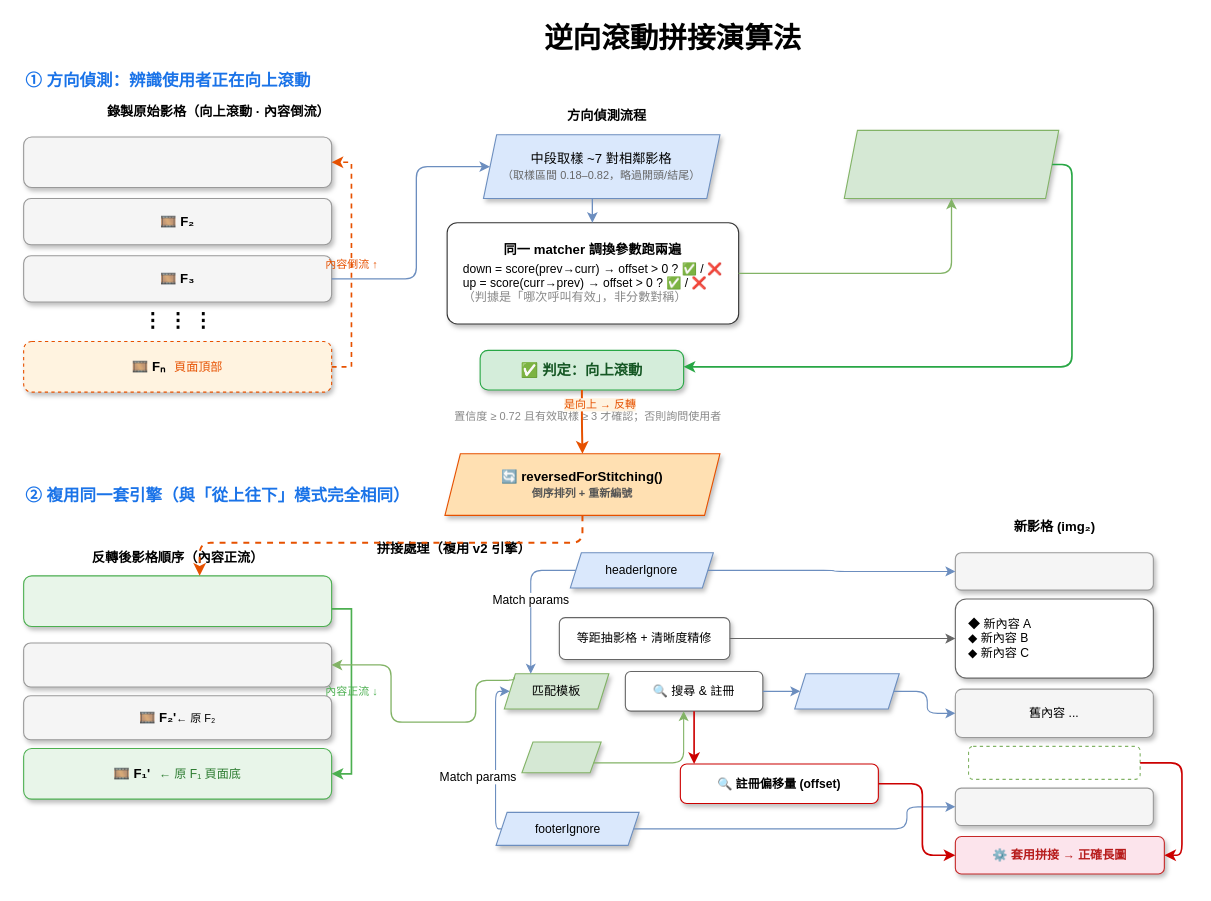
Image size: 1211x901. Some labels were removed from this diagram. The centre of each missing label's shape, as x and y in pixels:
"⊞ Tab Bar" goes at (x=1055, y=808).
"在這裡！ ✅" goes at (x=1053, y=762).
"投票判定 upVotes ≥ downVotes + 2 且 upScore ≥ downScore × 1.25" goes at (x=952, y=165).
"搜尋" goes at (x=562, y=758).
"搜尋範圍" goes at (x=847, y=692).
"🎞️ F₁ 頁面底部" goes at (x=178, y=163).
"🎞️ F₃' ← 原 F₃" goes at (x=178, y=666).
"🎞️ Fₙ' ← 原 Fₙ 頁面頂" goes at (x=178, y=602).
"🎬 狀態欄/導覽" goes at (x=1055, y=572).
